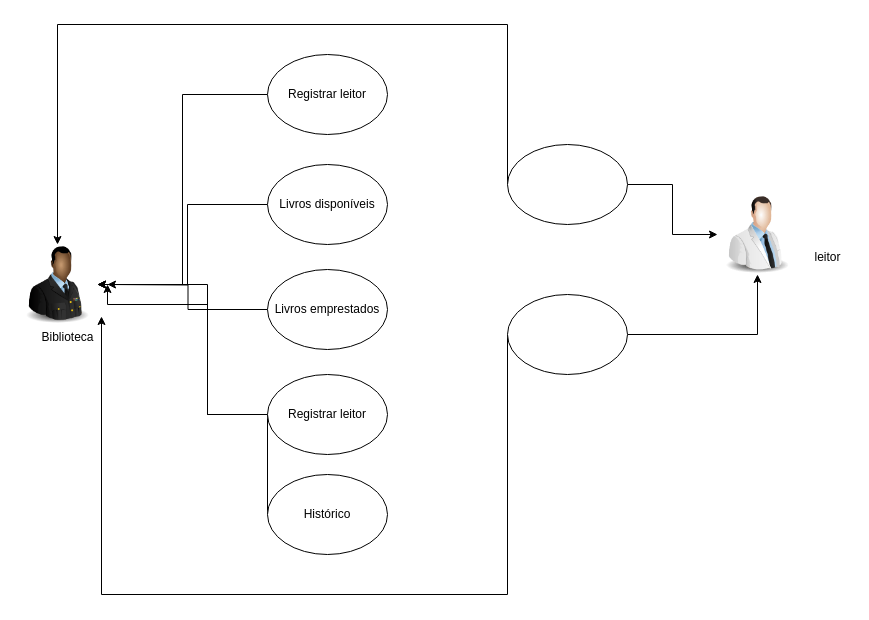
This 869x620 diagram has some shape labels left out. The shapes that lost their labels are listed below. From the top down, each one's centre as x and y in pixels, then its label:
At (x=567, y=184): "Empréstimo".
At (x=567, y=334): "Devolução".
